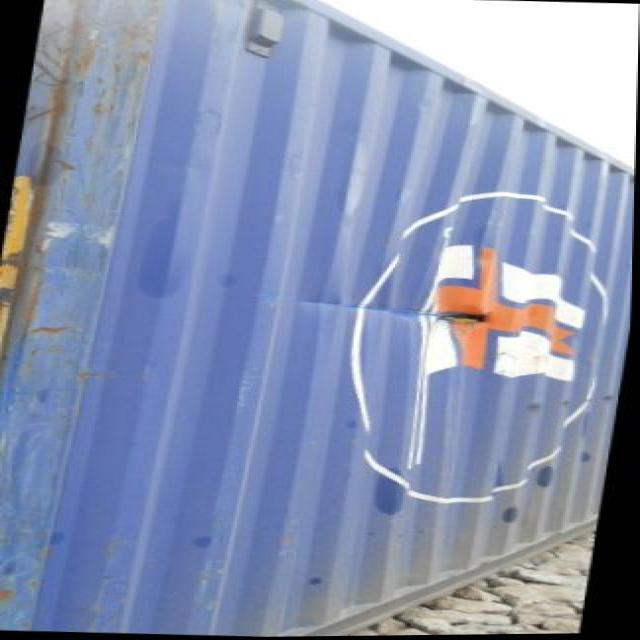hole: (389, 292, 508, 333)
